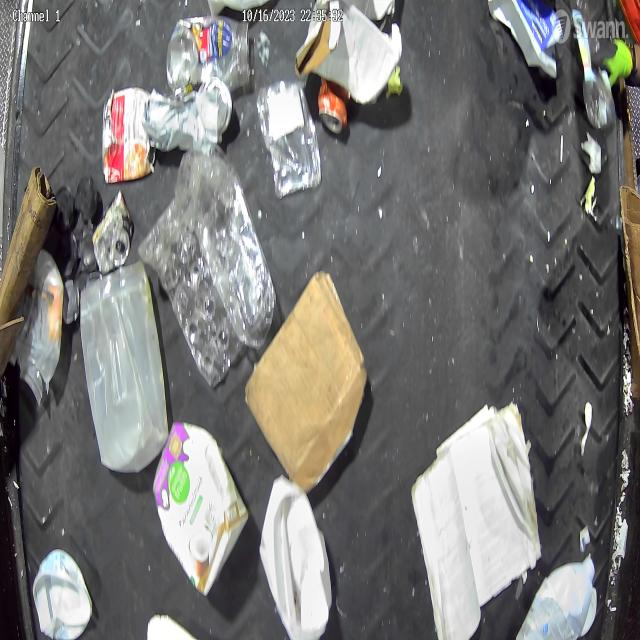can: (102, 85, 156, 184), (93, 191, 135, 272), (319, 80, 349, 134)
milk_jug: (258, 475, 332, 640), (514, 558, 600, 640)
non_white_jug: (153, 422, 250, 596)
